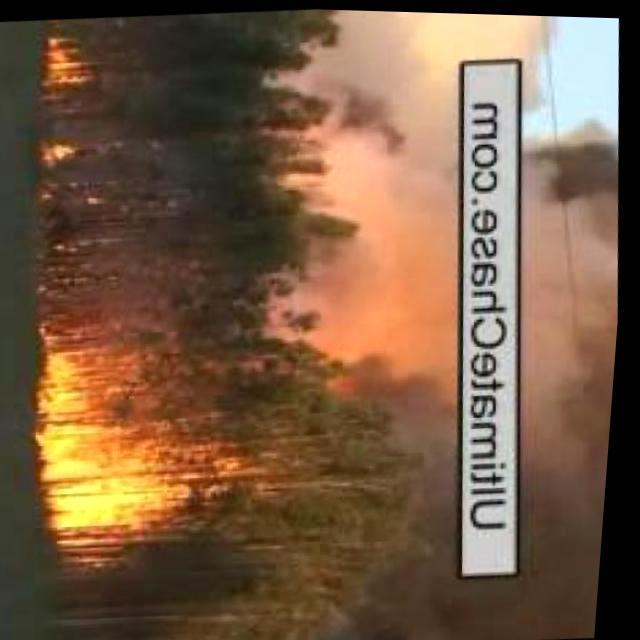fire: (32, 322, 208, 558), (35, 33, 97, 95), (40, 141, 80, 169)
